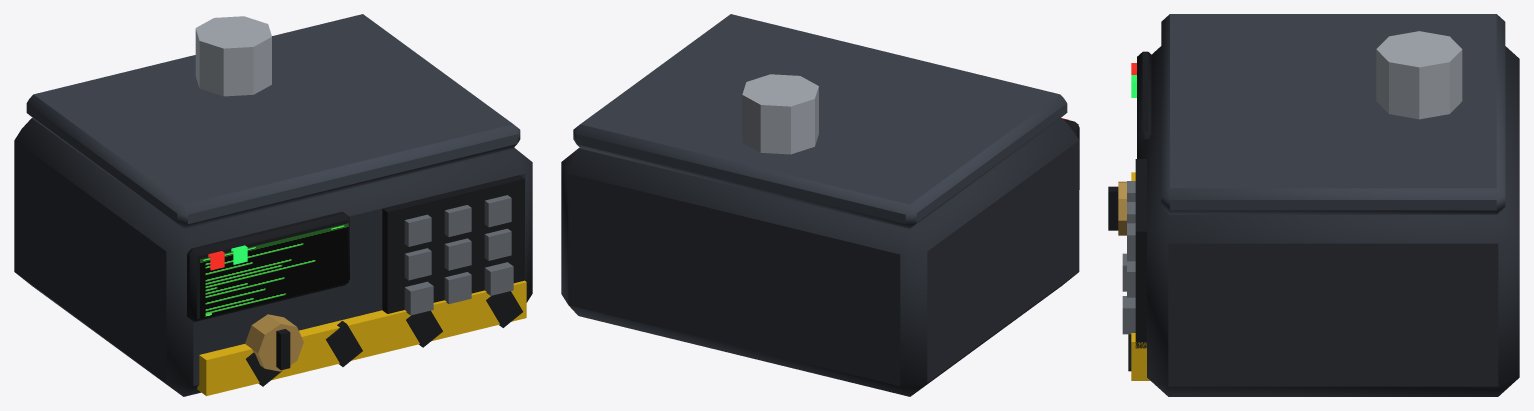
File: commsunit_encryption_unit.glb
3 renders of one model, left to right at view 1: azimuth 30°, elevation 25°; view 2: azimuth 150°, elevation 25°; view 3: azimuth 270°, elevation 25°, orthographic. The views are drawn at different scales.
Visible parts, largest first — view 1: commsunit_encryption_unit; view 2: commsunit_encryption_unit; view 3: commsunit_encryption_unit.
Part boxes in pixels (x1,y1,x2,y2): commsunit_encryption_unit: [14, 14, 532, 396]; commsunit_encryption_unit: [561, 14, 1079, 396]; commsunit_encryption_unit: [1108, 14, 1519, 396].
Size of the model in its own units: 0.32 by 0.2 by 0.287.
10 materials, 1 textured.
